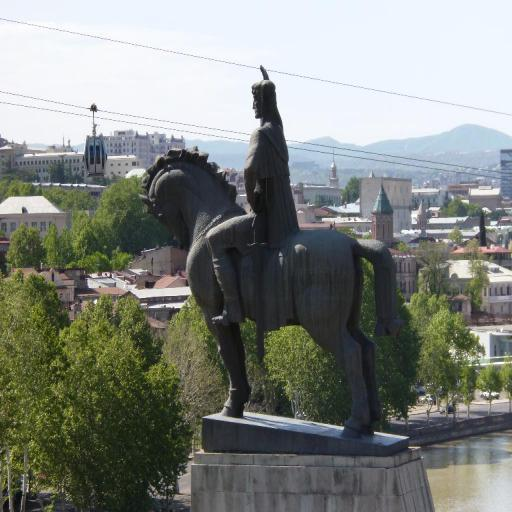horse: (136, 146, 406, 439)
